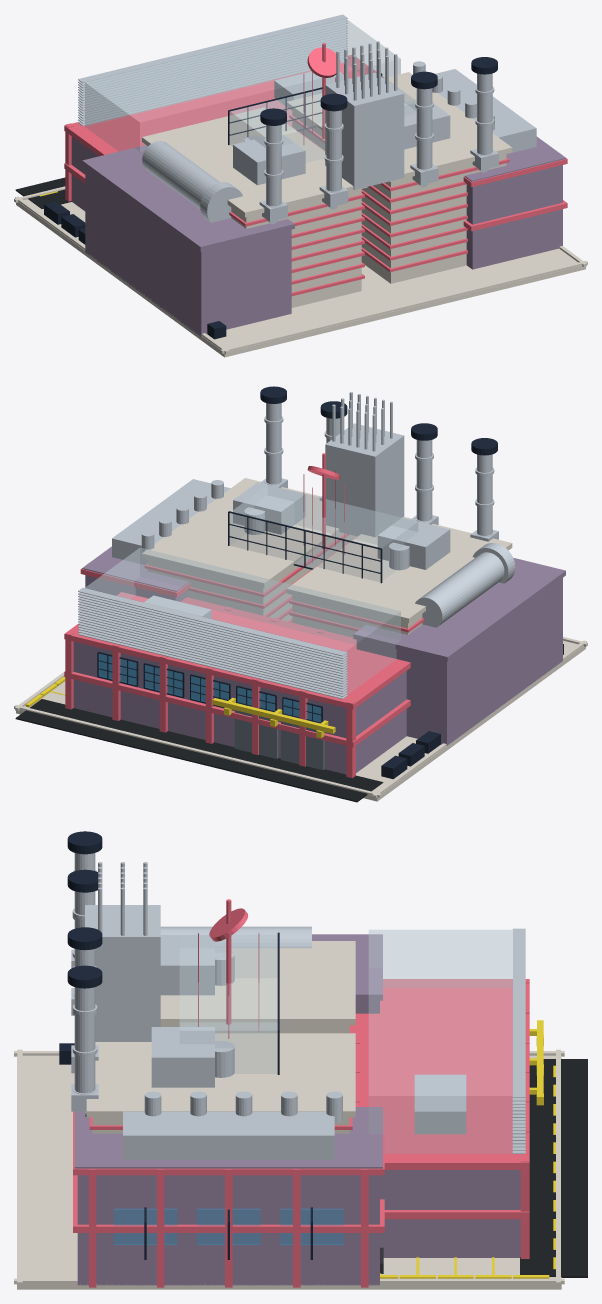
Rendered from hq_02_powertrain_l4.glb.
The picture shows the model from 3 angles, top to bottom: view 1: azimuth 30°, elevation 25°; view 2: azimuth 150°, elevation 25°; view 3: azimuth 270°, elevation 25°; orthographic projection. The views are drawn at different scales.
Parts seen in each view (by area): view 1: GEO_Dyno_Bunkers_Concrete, GEO_West_Turbo_Wing, GEO_Curtain_Glass_Mezzanine, GEO_Plinth_Foundation, GEO_South_Sunshade_Louvers, GEO_East_Transmission_Wing, GEO_Emissions_Analyzer_Tower, GEO_Exhaust_Stacks_Pipes, GEO_Dyno_Acoustic_Ribs, GEO_Workshop_Structural_Beams, GEO_Rooftop_HVAC_Blowers, GEO_ECU_Calibration_Observation_Room (+9 smaller); view 2: GEO_Dyno_Bunkers_Concrete, GEO_West_Turbo_Wing, GEO_Curtain_Glass_Mezzanine, GEO_Workshop_Structural_Beams, GEO_South_Sunshade_Louvers, GEO_Front_Workshop_Brick, GEO_ECU_Calibration_Observation_Room, GEO_Emissions_Analyzer_Tower, GEO_Front_Apron_Asphalt, GEO_Rooftop_HVAC_Blowers, GEO_Exhaust_Stacks_Pipes, GEO_Plinth_Foundation (+13 smaller); view 3: GEO_East_Transmission_Wing, GEO_Curtain_Glass_Mezzanine, GEO_Dyno_Bunkers_Concrete, GEO_Workshop_Structural_Beams, GEO_Plinth_Foundation, GEO_Transmission_Acoustic_Silencers, GEO_ECU_Calibration_Observation_Room, GEO_Rooftop_HVAC_Blowers, GEO_Front_Apron_Asphalt, GEO_Front_Workshop_Brick, GEO_East_Structural_Beams, GEO_Emissions_Analyzer_Tower (+9 smaller).
Boxes of the visible parts, x1,y1,x2,y2 form: GEO_Dyno_Bunkers_Concrete: [142, 72, 512, 307]; GEO_West_Turbo_Wing: [82, 145, 294, 336]; GEO_Curtain_Glass_Mezzanine: [85, 18, 400, 151]; GEO_Plinth_Foundation: [14, 186, 587, 357]; GEO_South_Sunshade_Louvers: [78, 14, 347, 125]; GEO_East_Transmission_Wing: [464, 136, 565, 269]; GEO_Emissions_Analyzer_Tower: [325, 41, 404, 189]; GEO_Exhaust_Stacks_Pipes: [259, 73, 498, 224]; GEO_Dyno_Acoustic_Ribs: [229, 114, 509, 296]; GEO_Workshop_Structural_Beams: [64, 55, 383, 201]; GEO_Rooftop_HVAC_Blowers: [233, 71, 450, 185]; GEO_ECU_Calibration_Observation_Room: [230, 75, 416, 162]; GEO_Dyno_Bunkers_Concrete: [142, 478, 512, 637]; GEO_West_Turbo_Wing: [353, 558, 565, 745]; GEO_Curtain_Glass_Mezzanine: [85, 547, 400, 694]; GEO_Workshop_Structural_Beams: [64, 592, 410, 778]; GEO_South_Sunshade_Louvers: [78, 587, 347, 699]; GEO_Front_Workshop_Brick: [73, 641, 406, 774]; GEO_ECU_Calibration_Observation_Room: [230, 485, 418, 581]; GEO_Emissions_Analyzer_Tower: [325, 392, 404, 536]; GEO_Front_Apron_Asphalt: [15, 699, 383, 802]; GEO_Rooftop_HVAC_Blowers: [144, 482, 450, 618]; GEO_Exhaust_Stacks_Pipes: [260, 403, 498, 541]; GEO_Plinth_Foundation: [14, 637, 587, 801]; GEO_East_Transmission_Wing: [74, 1107, 382, 1285]; GEO_Curtain_Glass_Mezzanine: [368, 929, 512, 1153]; GEO_Dyno_Bunkers_Concrete: [86, 941, 355, 1133]; GEO_Workshop_Structural_Beams: [352, 979, 529, 1258]; GEO_Plinth_Foundation: [14, 1049, 564, 1289]; GEO_Transmission_Acoustic_Silencers: [123, 1091, 342, 1159]; GEO_ECU_Calibration_Observation_Room: [179, 934, 277, 1073]; GEO_Rooftop_HVAC_Blowers: [151, 935, 466, 1134]; GEO_Front_Apron_Asphalt: [520, 1059, 587, 1277]; GEO_Front_Workshop_Brick: [380, 1170, 520, 1257]; GEO_East_Structural_Beams: [73, 1107, 384, 1287]; GEO_Emissions_Analyzer_Tower: [85, 862, 160, 1041].
Size of what is drawn, in the model's own units: 38.49 by 21.9 by 37.95.
